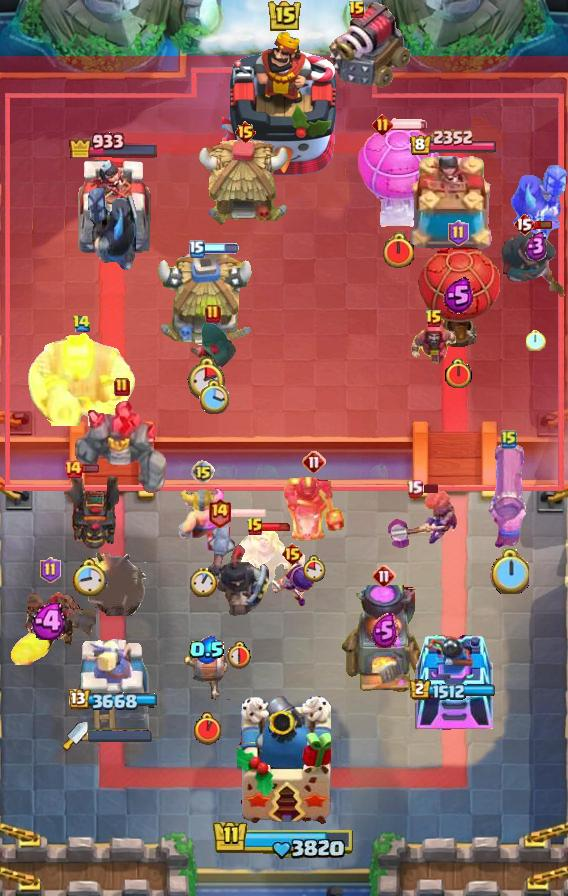archer-evolution: (4, 585, 96, 665), (59, 468, 119, 552)
baby-dragon: (86, 553, 145, 616)
bar: (77, 637, 151, 731)
battle-healer: (486, 445, 532, 549)
bowler: (408, 318, 460, 370)
cannon-cart: (354, 122, 442, 230), (416, 245, 500, 347)
cannoneer-tower: (73, 397, 171, 499)
clock: (212, 819, 356, 861)
electro-spirit: (30, 603, 69, 640), (443, 277, 473, 315), (189, 636, 225, 664), (370, 613, 397, 647), (525, 231, 548, 261)
elixir: (490, 550, 529, 595), (187, 356, 225, 400), (380, 232, 415, 270), (73, 558, 108, 596), (199, 379, 230, 416), (444, 358, 472, 390), (194, 712, 221, 744), (191, 567, 217, 597), (225, 640, 251, 669), (303, 555, 326, 582), (526, 329, 546, 351)
emote: (390, 118, 428, 130), (230, 507, 267, 519), (203, 243, 239, 254), (261, 522, 293, 532), (533, 218, 553, 230), (420, 483, 440, 494), (81, 462, 100, 473)
freeze: (282, 476, 346, 544)
giant-skeleton: (26, 332, 136, 426)
goblin-ball: (268, 555, 316, 609)
goblin-giant: (178, 486, 230, 552)
goblin-hut: (233, 525, 307, 599)
golem: (325, 0, 413, 90)
hunter: (340, 585, 428, 695)
inferno-dragon: (205, 517, 271, 623), (84, 184, 144, 278), (510, 163, 568, 257)
king-tower: (222, 31, 346, 181), (237, 696, 331, 826)
king-tower-bar: (88, 730, 152, 742)
knight: (183, 646, 231, 700)
prince: (155, 254, 257, 350), (198, 138, 292, 228)
queen-tower: (407, 156, 499, 256), (412, 623, 494, 731), (73, 160, 154, 257)
royal-hog: (490, 229, 568, 301)
selected: (68, 129, 160, 158), (410, 129, 499, 157), (68, 688, 159, 712), (411, 679, 498, 701)
tesla: (189, 322, 237, 368)
tesla-evolution: (387, 487, 459, 549)
text: (208, 497, 233, 528), (302, 450, 326, 474), (191, 460, 215, 484), (372, 564, 396, 588), (447, 220, 469, 246), (235, 120, 258, 144), (281, 542, 304, 566), (39, 557, 60, 583), (513, 212, 535, 236), (371, 113, 392, 135), (63, 459, 83, 479), (348, 0, 366, 20), (425, 309, 443, 329), (246, 517, 264, 537), (72, 315, 91, 333), (205, 304, 221, 324), (114, 377, 130, 397), (501, 429, 517, 449), (405, 479, 422, 497), (189, 240, 205, 258)
